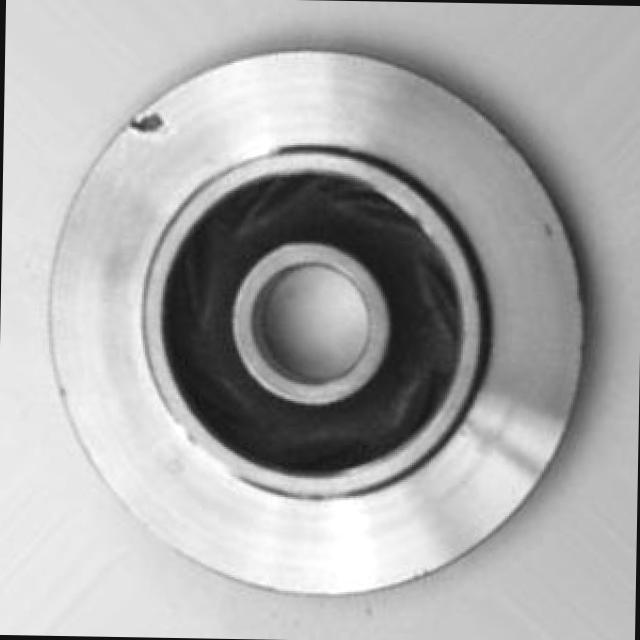Defect: (118, 90, 180, 148)
